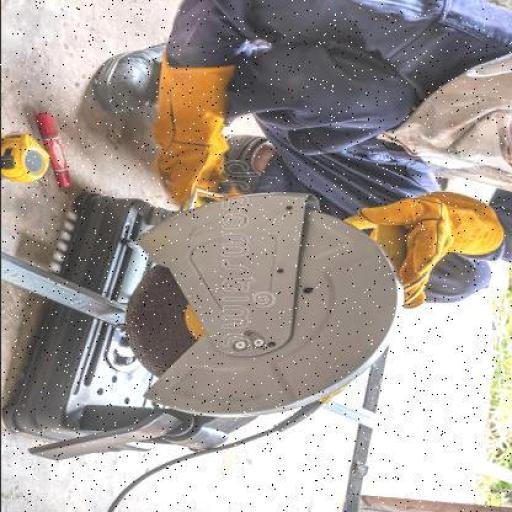safety_shoe: (92, 42, 175, 117)
